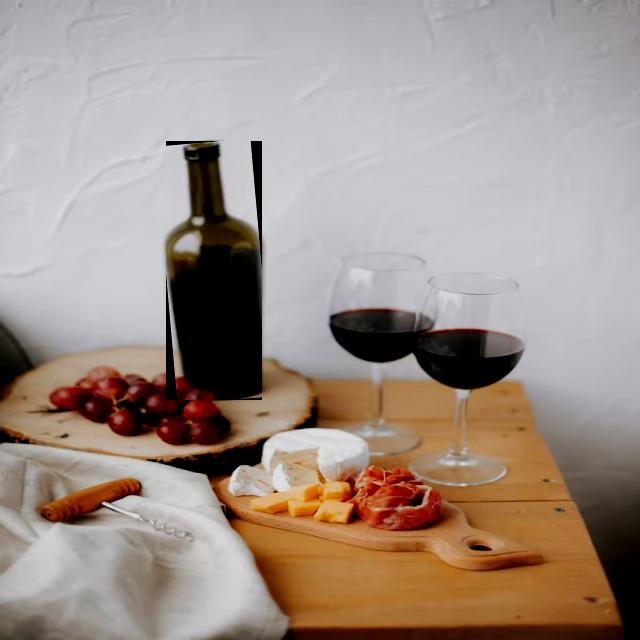Bottle: (167, 142, 262, 399)
